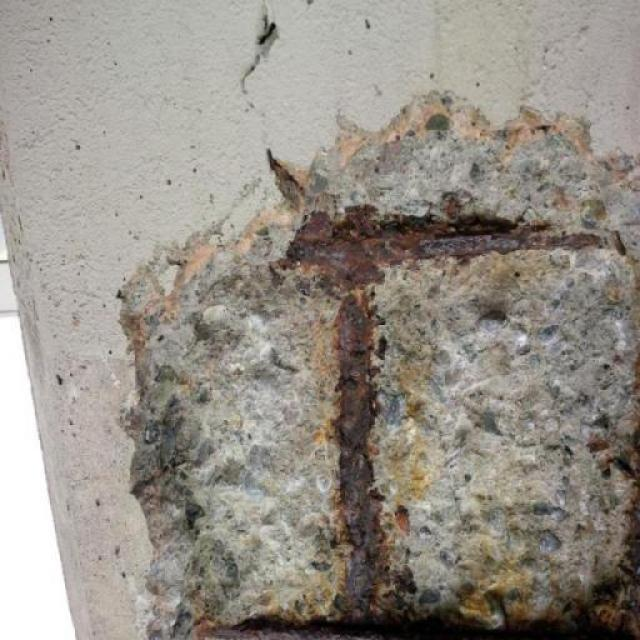D0w0: (111, 78, 639, 636)
